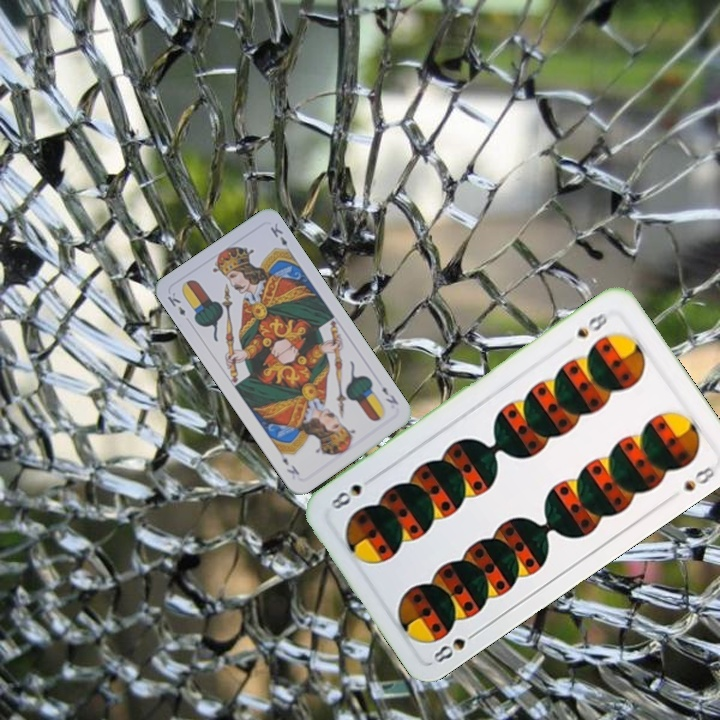EK: (163, 288, 193, 326), (378, 382, 401, 407)
S8: (429, 626, 482, 666), (572, 308, 611, 341)
